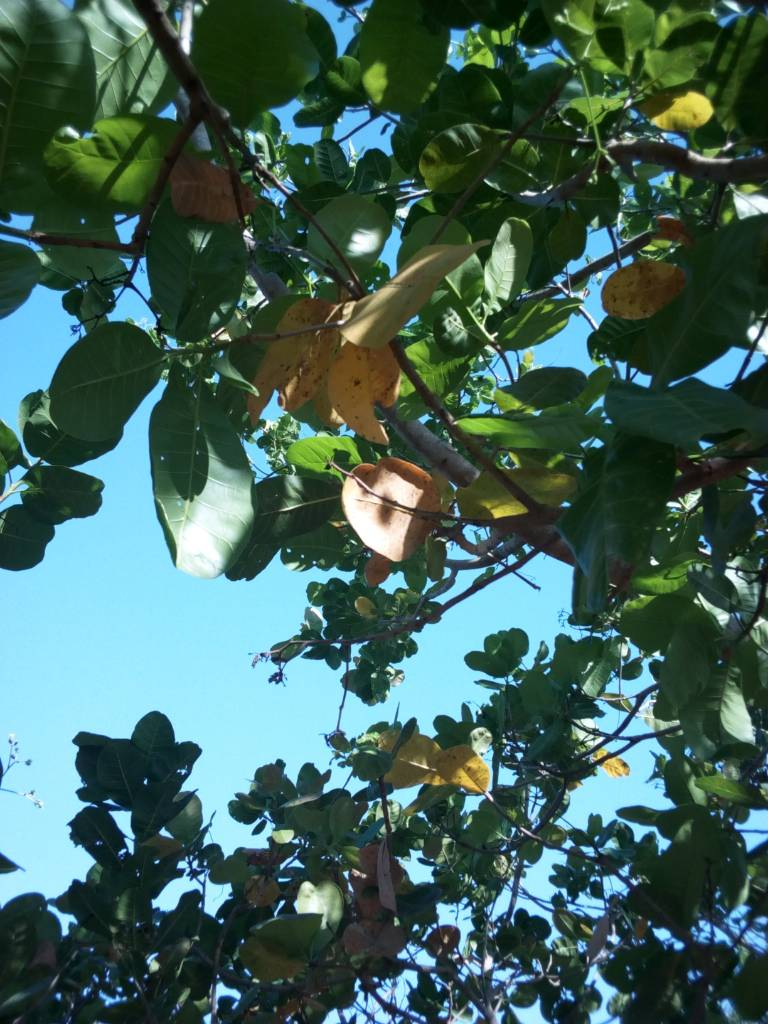Anthracnose: (244, 302, 335, 417), (325, 328, 399, 447), (599, 253, 688, 317)
